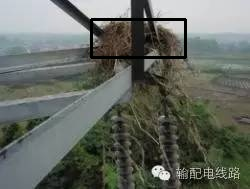bird-nest: (91, 19, 185, 57)
